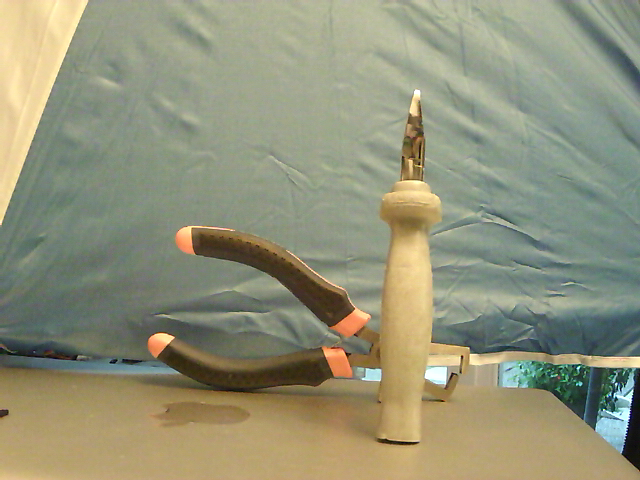pliers: (370, 85, 447, 444)
